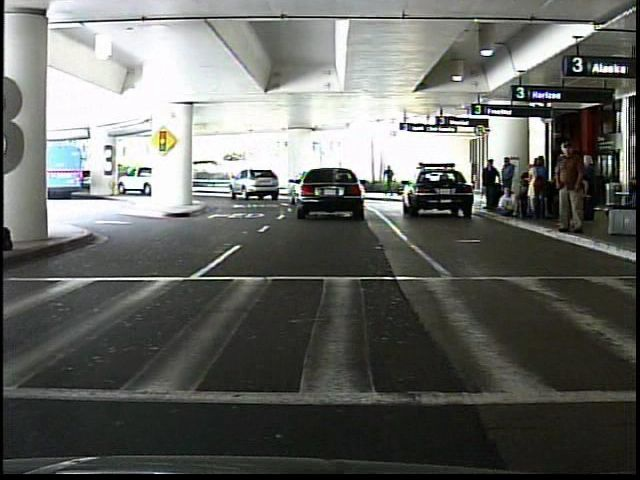person: (551, 140, 590, 239), (479, 159, 502, 216), (384, 164, 398, 199), (125, 162, 137, 188)
